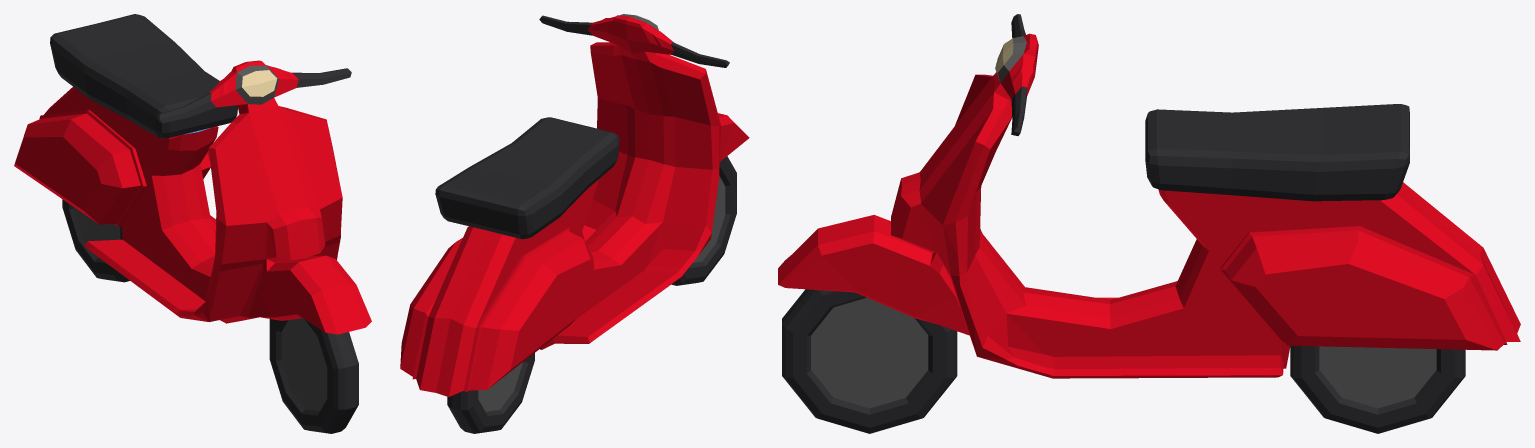
File: vespa_rouge.fbx
The picture shows the model from 3 angles, left to right: view 1: azimuth 30°, elevation 25°; view 2: azimuth 150°, elevation 25°; view 3: azimuth 270°, elevation 25°; orthographic projection. The views are drawn at different scales.
Parts seen in each view (by area): view 1: vespa_rouge, fautille, roue_1, roue_2, gidon; view 2: vespa_rouge, fautille, roue_2, roue_1, gidon; view 3: vespa_rouge, fautille, roue_1, roue_2, gidon.
Part boxes in pixels (x1,y1,x2,y2): vespa_rouge: (14, 60, 371, 334); fautille: (50, 14, 237, 138); roue_1: (269, 318, 358, 433); roue_2: (62, 199, 129, 282); gidon: (156, 68, 351, 122); vespa_rouge: (400, 14, 749, 396); fautille: (435, 117, 619, 239); roue_2: (447, 353, 534, 433); roue_1: (671, 156, 736, 285); gidon: (539, 15, 729, 67); vespa_rouge: (778, 33, 1520, 378); fautille: (1145, 104, 1409, 201); roue_1: (782, 289, 957, 433); roue_2: (1290, 345, 1465, 433); gidon: (1011, 14, 1027, 135).
Bounding box in the file's own units: 145 × 229 × 394.
